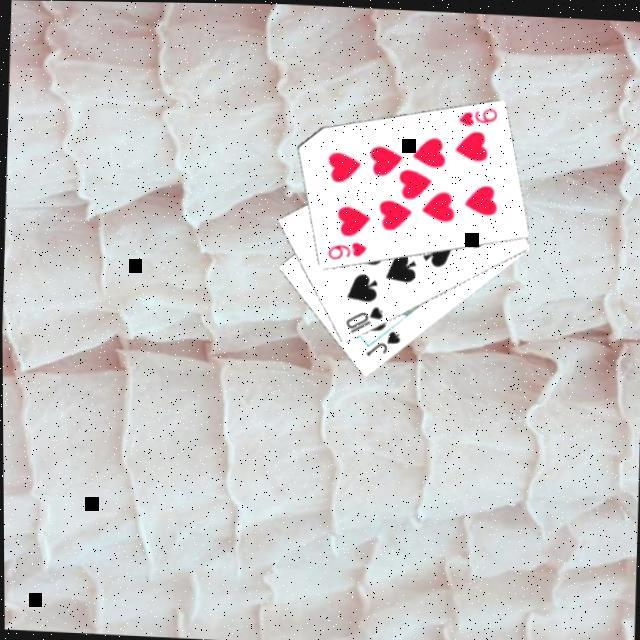10S: (342, 298, 388, 334)
9H: (456, 99, 501, 128), (324, 234, 371, 261)
JS: (364, 323, 405, 357)
